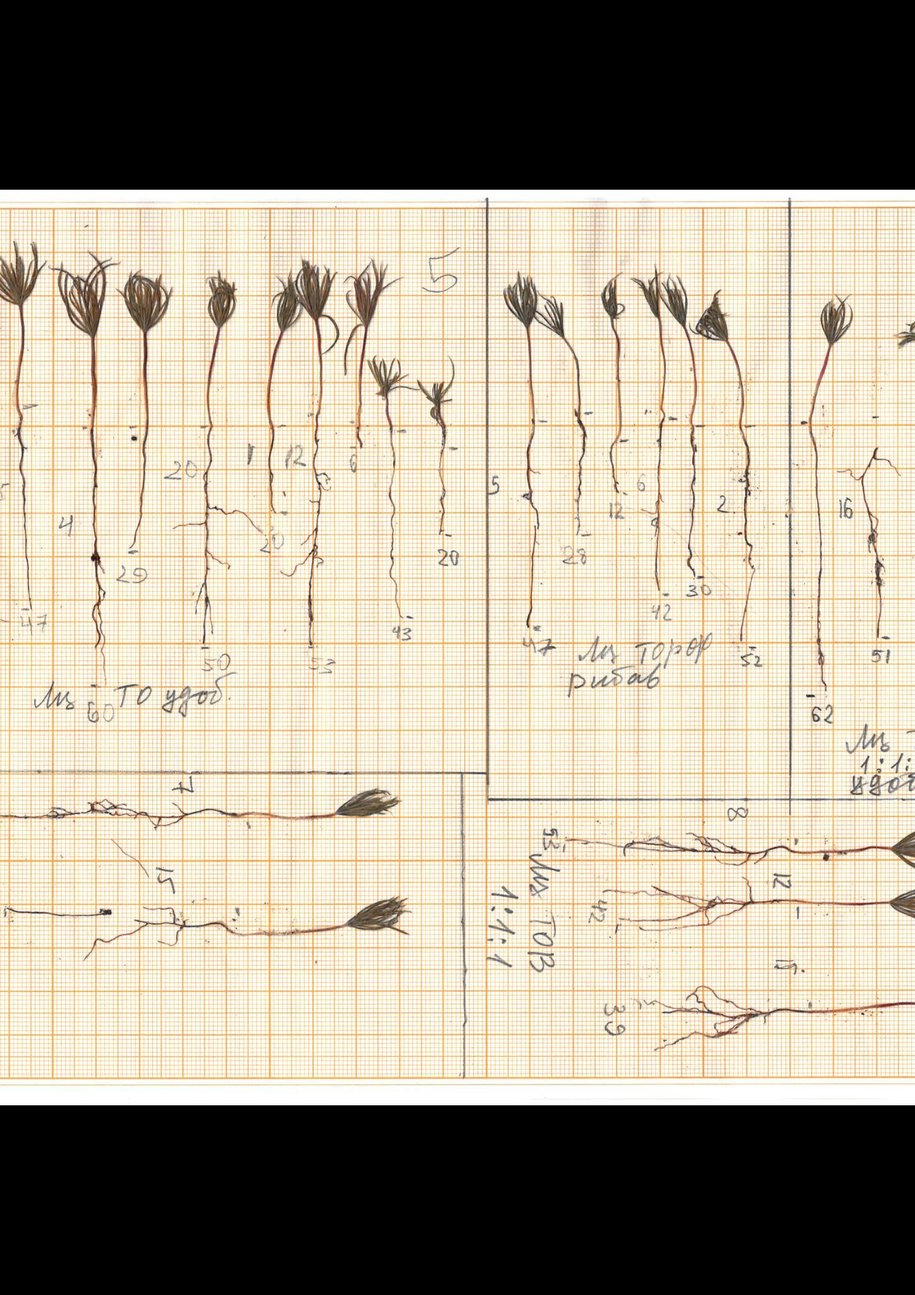Seeding: (0, 885, 412, 969), (174, 270, 258, 657), (47, 249, 120, 681), (794, 295, 856, 697), (636, 979, 915, 1065), (597, 871, 915, 946), (0, 782, 406, 838), (556, 816, 915, 877), (695, 296, 756, 654), (111, 269, 179, 561), (291, 263, 337, 657), (0, 239, 44, 610), (501, 270, 541, 632), (537, 291, 590, 538), (358, 361, 407, 627), (628, 273, 666, 601), (256, 282, 304, 527), (342, 258, 399, 456), (660, 282, 697, 584), (851, 445, 904, 645), (412, 361, 458, 545), (595, 269, 631, 500), (894, 310, 915, 704)
